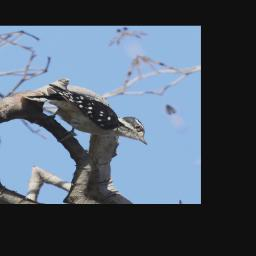Woodpecker: (20, 65, 155, 170)
